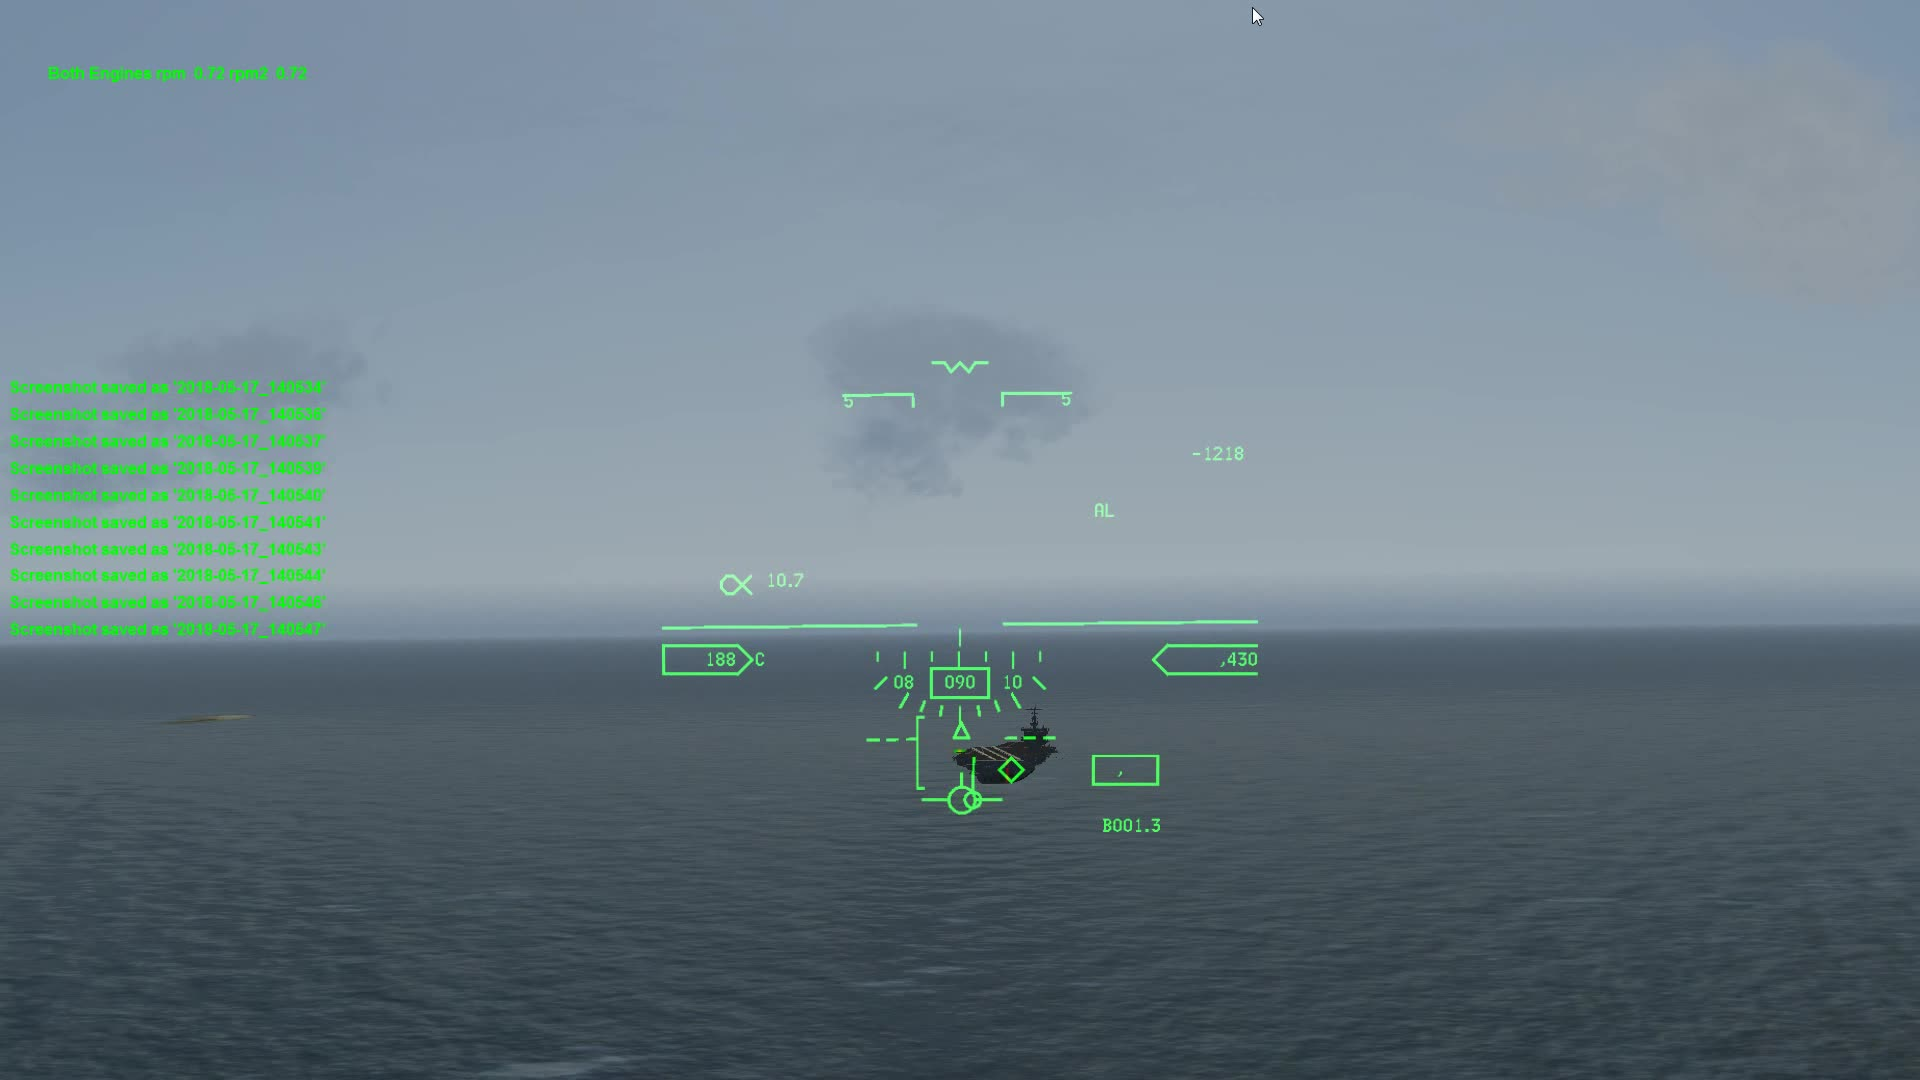speed vector: (924, 767, 1013, 822)
